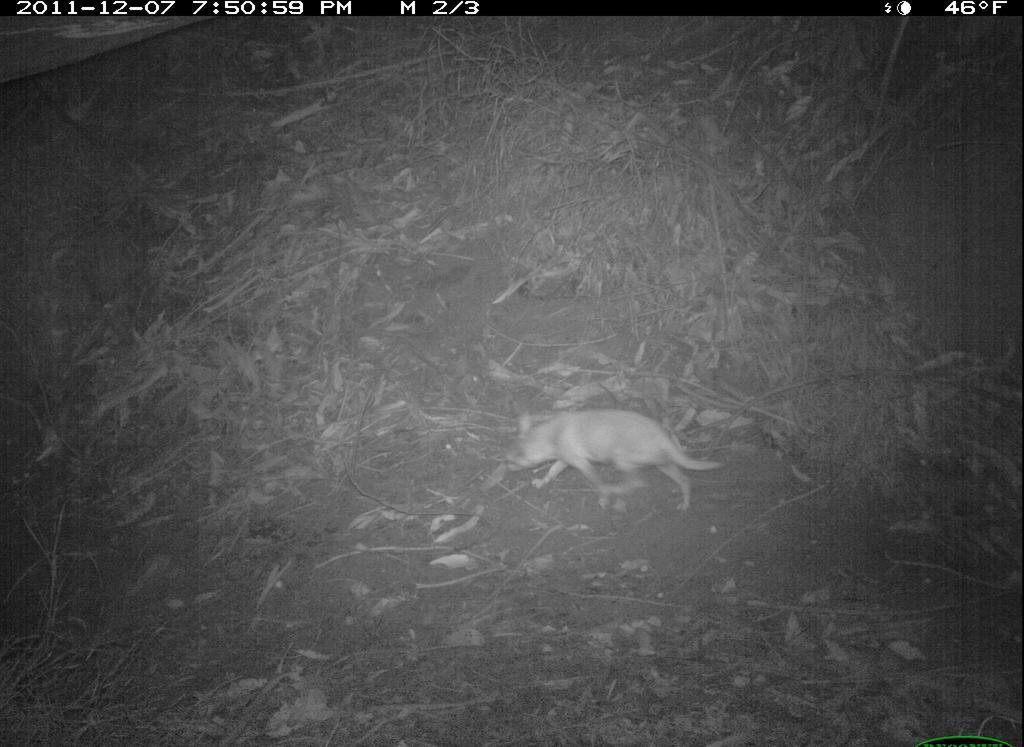dog: (510, 410, 726, 513)
